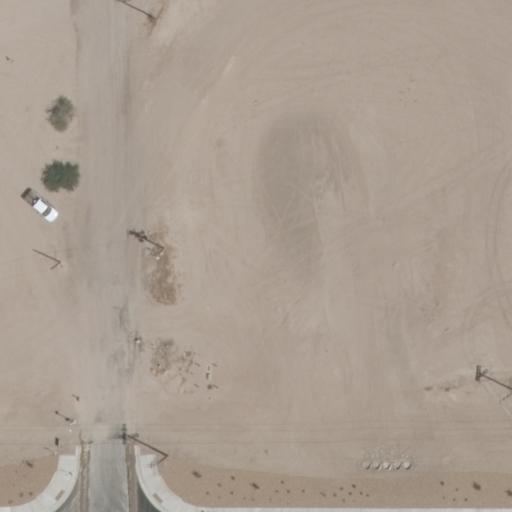DT: (150, 237, 172, 267), (138, 7, 163, 32), (147, 449, 174, 468), (496, 378, 512, 407), (45, 254, 66, 274)
